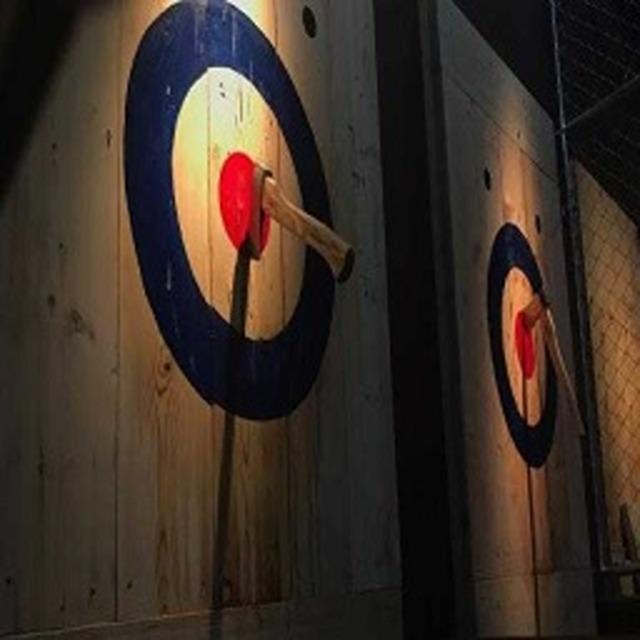ax: (232, 153, 370, 294), (502, 268, 596, 446)
